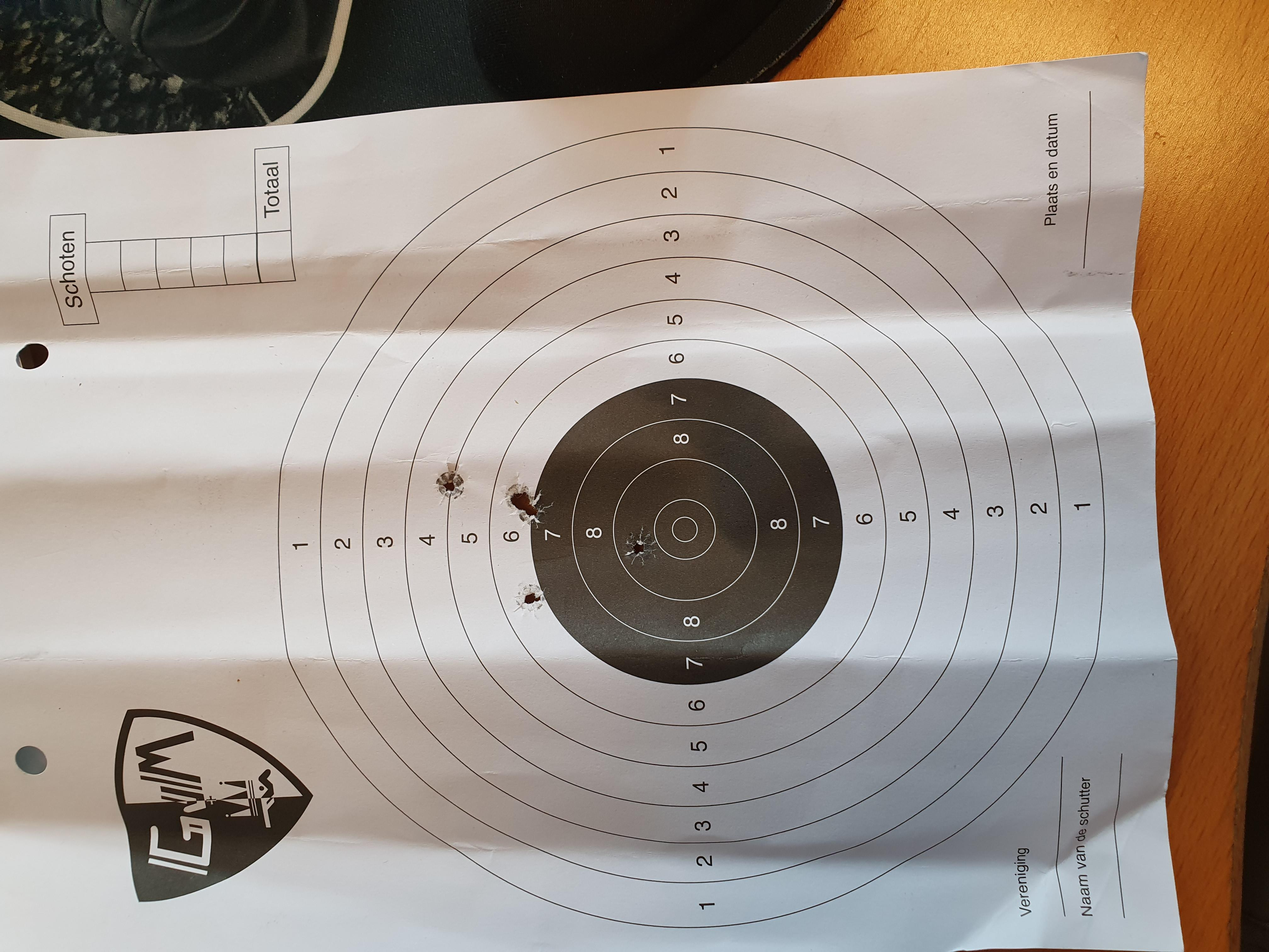hole: (603, 326, 648, 351), (515, 470, 561, 492), (451, 388, 495, 411), (589, 376, 631, 400), (570, 391, 606, 412)
